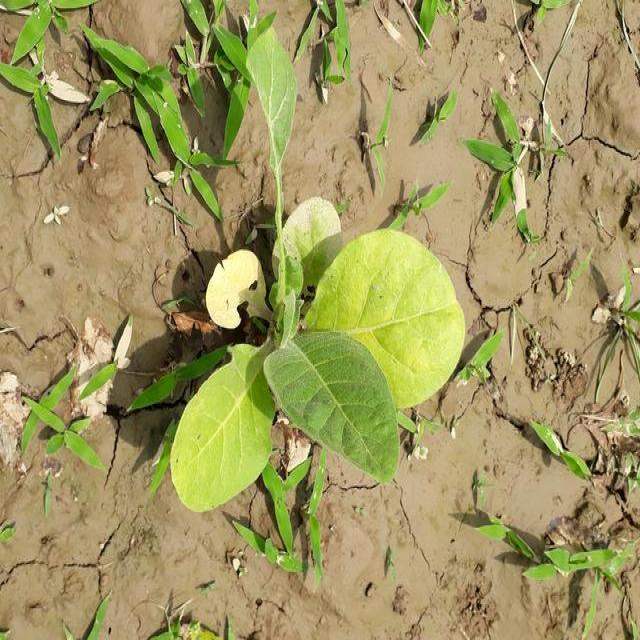crop: (164, 186, 474, 519)
